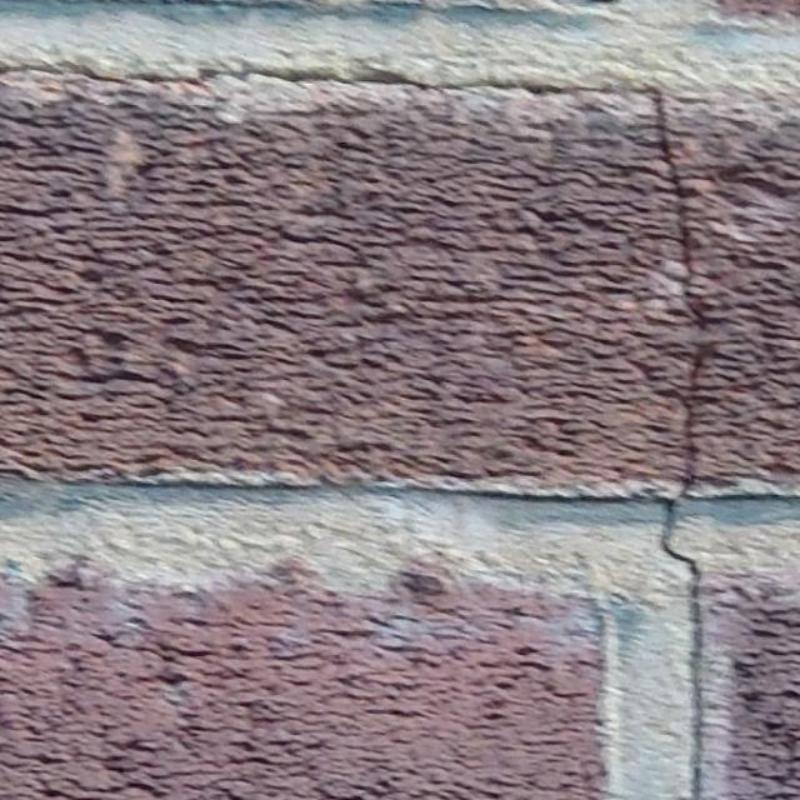pothole: (0, 59, 660, 100), (653, 97, 712, 501), (660, 502, 705, 796)
